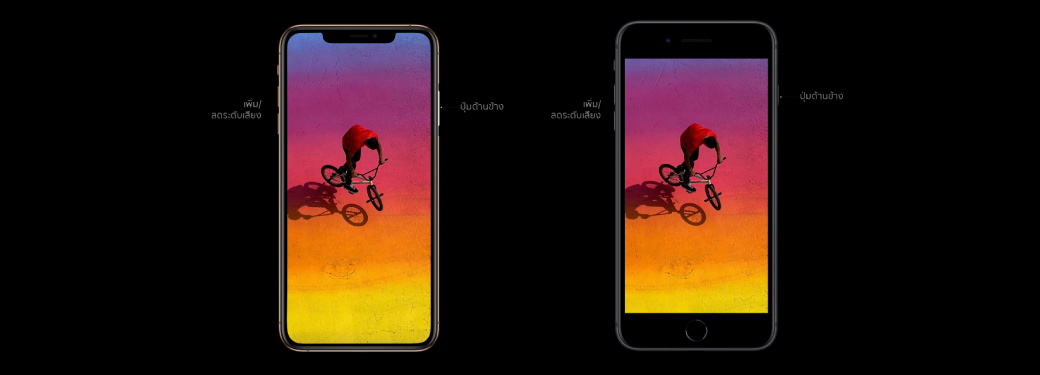Phone: (609, 19, 782, 354), (273, 21, 445, 355)
